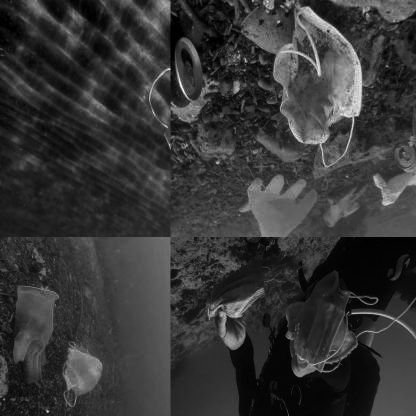Mask: (268, 3, 361, 166), (286, 268, 350, 372), (208, 258, 264, 318), (63, 341, 104, 408), (318, 327, 359, 373)
glove: (10, 287, 58, 387), (322, 184, 364, 228)
